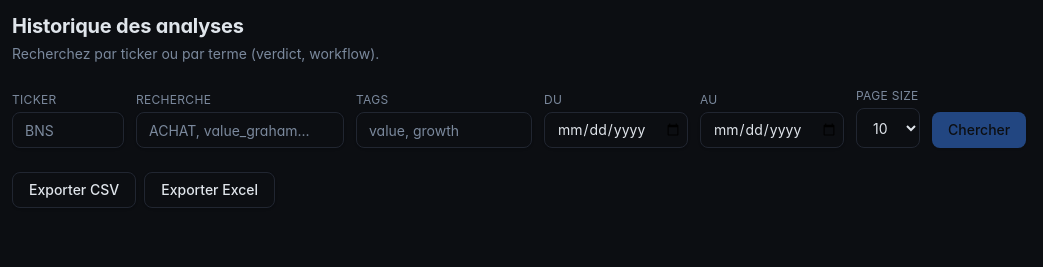
Scenario: HistorySearch (Sprint 73 + Sprint 90) › affiche le message "Aucun résultat" quand la recherche est vide
Type "INTROUVABLE" into the field with test id "history-search-input" at (240, 130), box [136, 112, 344, 148]
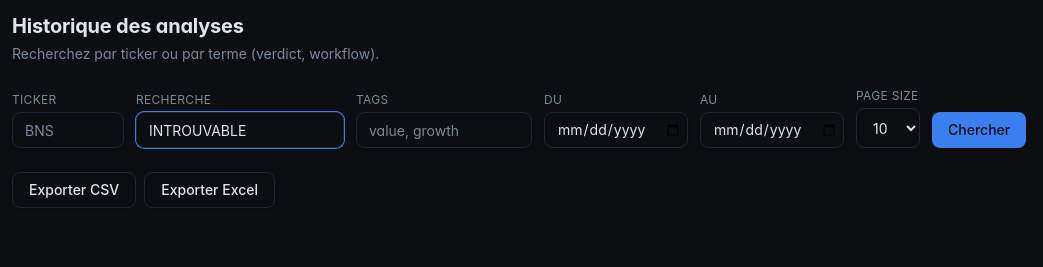
Click the button with test id "history-search-btn" at (979, 130), box [932, 112, 1026, 148]
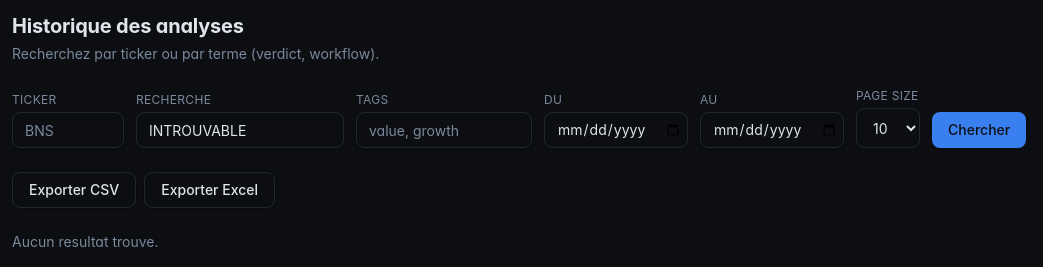
expect the text "Aucun resultat trouve." is shown: met, box [12, 233, 158, 250]
